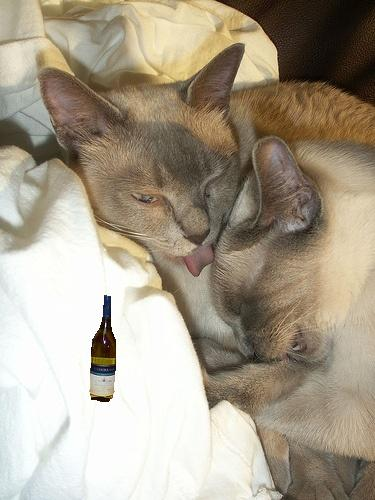tampered: (90, 296, 116, 402)
